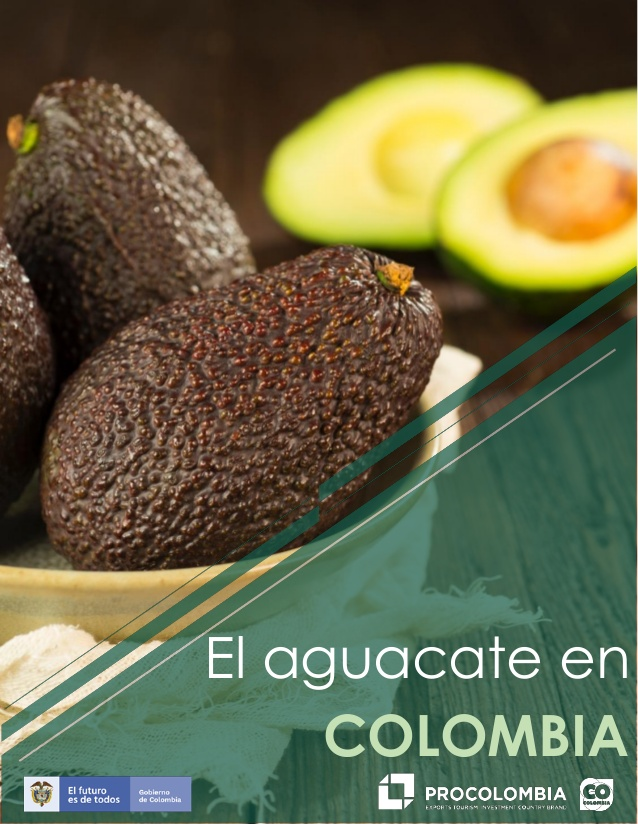fit_avocado: (37, 240, 445, 568), (1, 77, 263, 300)
